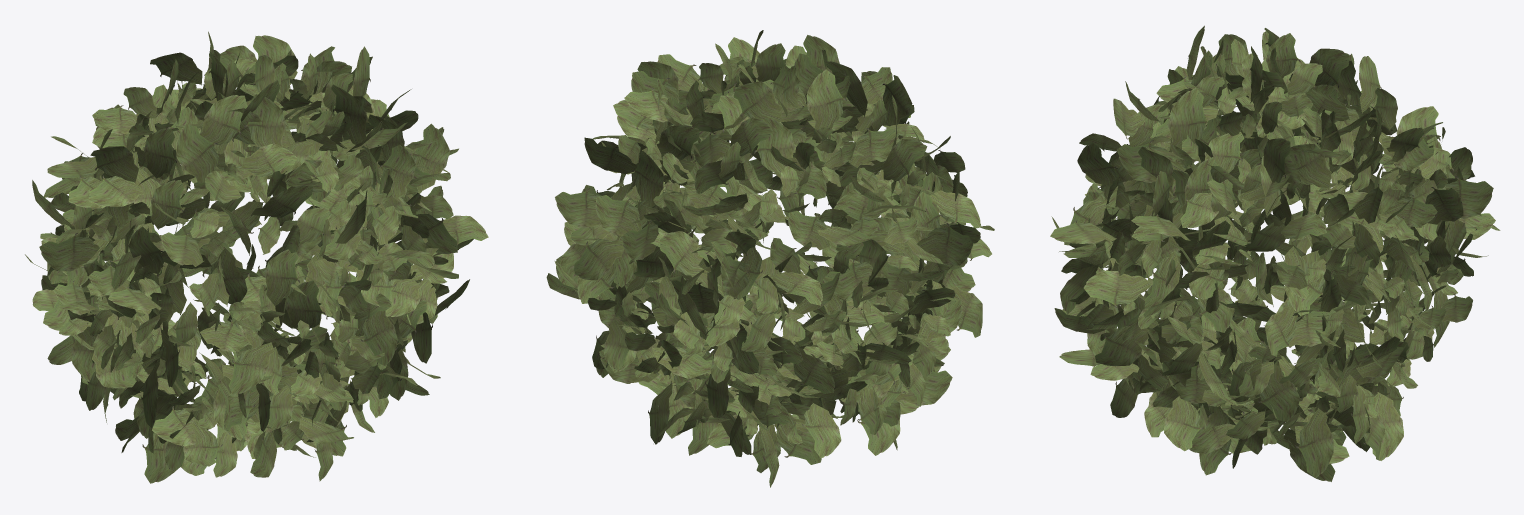
File: Bush.obj
The picture shows the model from 3 angles, left to right: view 1: azimuth 30°, elevation 25°; view 2: azimuth 150°, elevation 25°; view 3: azimuth 270°, elevation 25°; orthographic projection. The views are drawn at different scales.
Visible parts, largest first — view 1: Plane.125_Plane.1052; view 2: Plane.125_Plane.1052; view 3: Plane.125_Plane.1052.
Part boxes in pixels (<box>): Plane.125_Plane.1052: <box>25,31,488,483</box>; Plane.125_Plane.1052: <box>546,30,994,487</box>; Plane.125_Plane.1052: <box>1050,25,1500,481</box>.
Bounding box in the file's own units: 1.64 × 1.62 × 1.54.
1 material, 1 textured.
